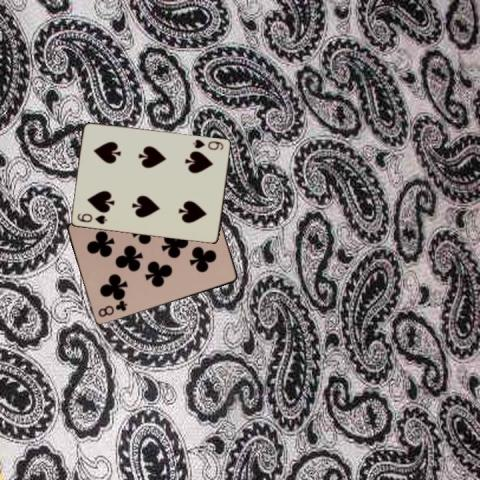6s: (190, 136, 225, 151), (74, 210, 108, 225)
8c: (95, 298, 129, 318)
